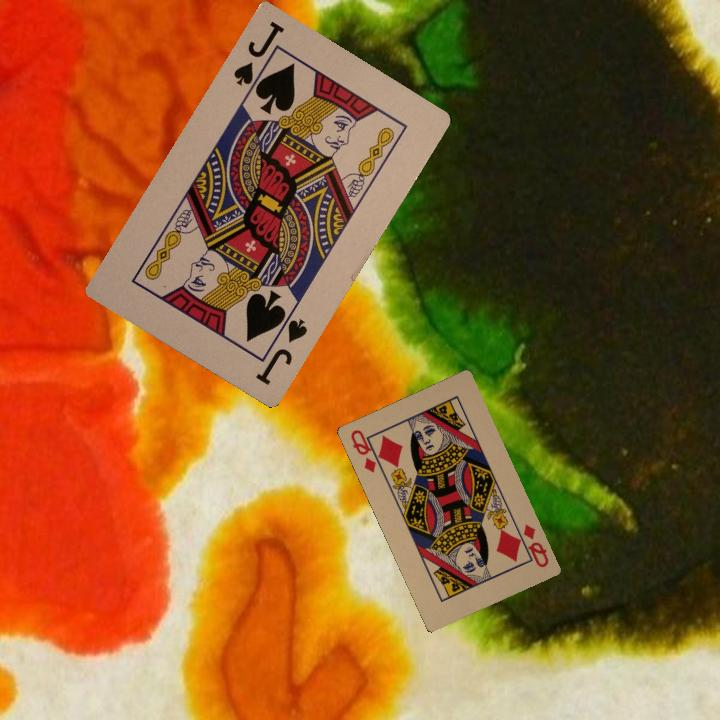Js: (229, 15, 287, 98), (251, 310, 310, 388)
Qd: (346, 425, 386, 475), (511, 520, 551, 570)
